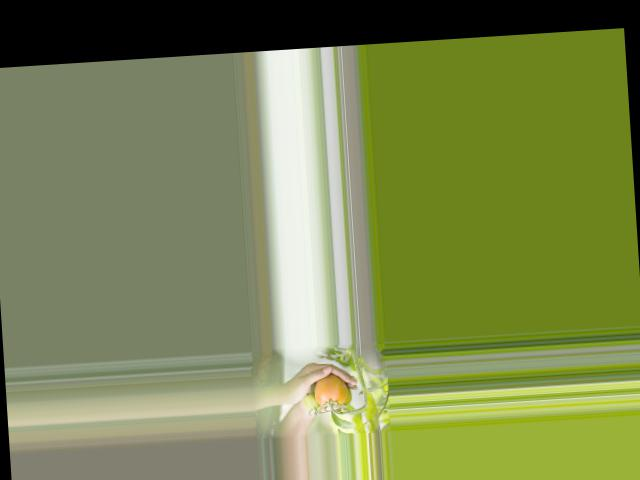tomato: (313, 375, 347, 410)
